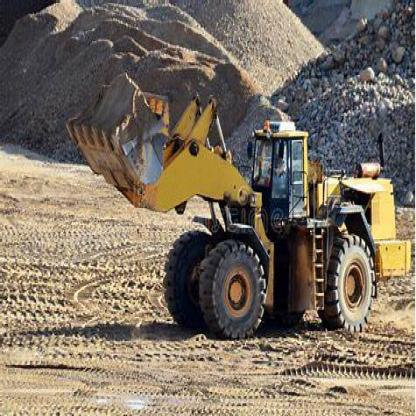bull_dozer/loader/grader: (62, 69, 414, 341)
